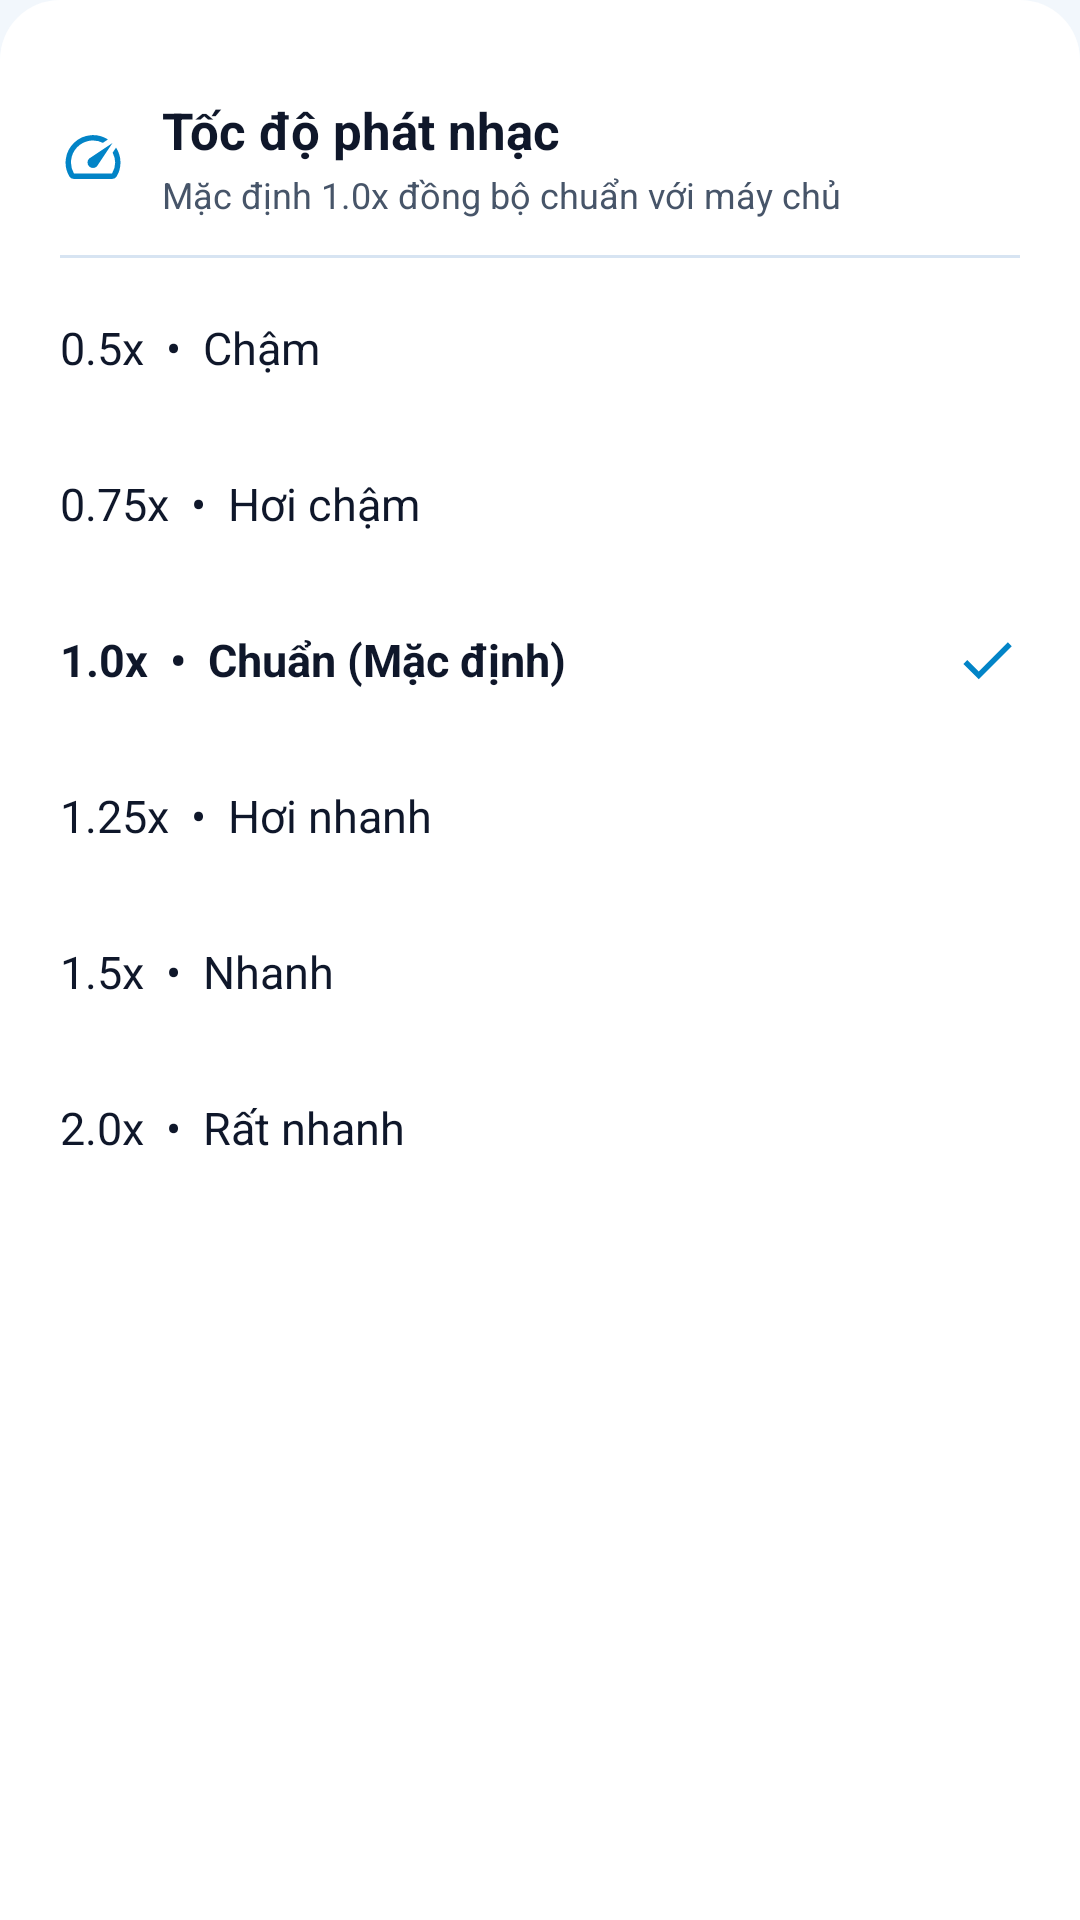

Screen size 1080 × 1920. Icon name, then its center in pixels as [x,y]:
check: [987,660]
speed: [93,157]
